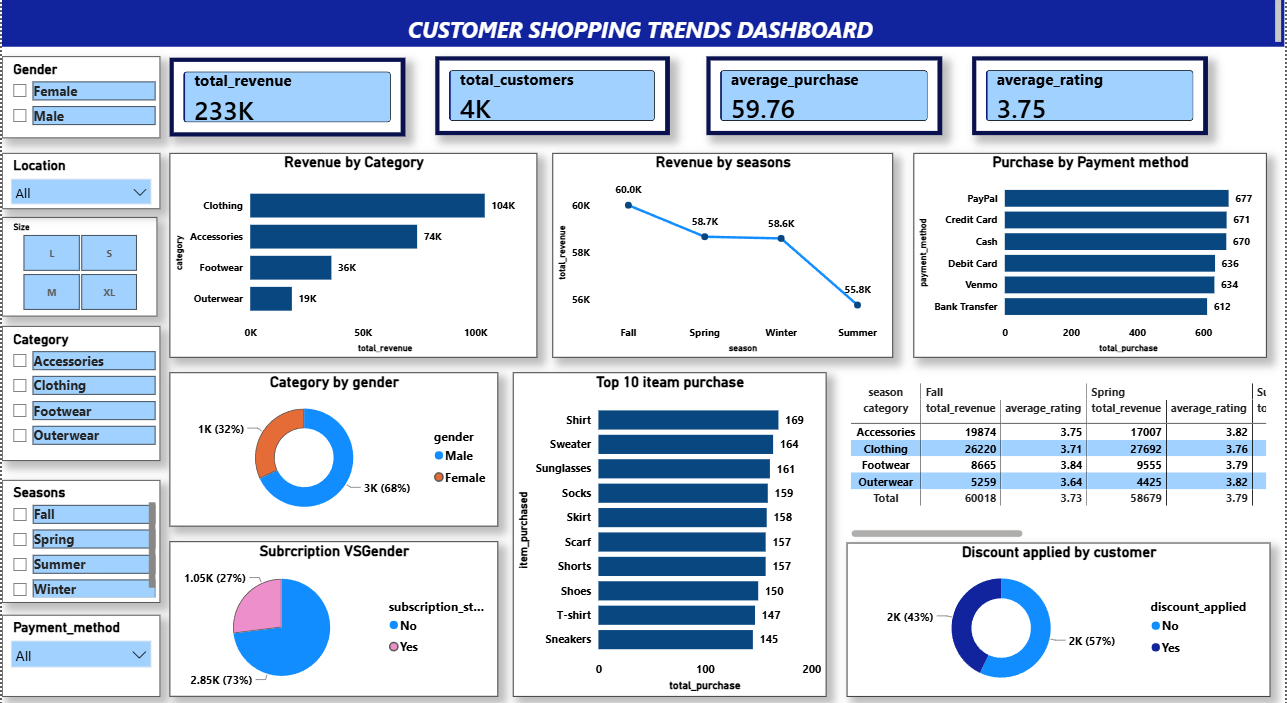

The page's visual inventory and layout, read from the dashboard file:
{"tool":"powerbi","page":{"name":"Page 1","canvas":[1566,867],"ordinal":0},"visuals":[{"type":"textbox","box":[0,0,1565.7,63.2],"z":0},{"type":"slicer","fields":{"Values":["customer_shopping_cleaned.gender"]},"box":[0,74.8,192.8,99.7],"z":1},{"type":"slicer","fields":{"Values":["customer_shopping_cleaned.size"]},"box":[0,270.9,189.5,121.3],"z":2},{"type":"slicer","fields":{"Values":["customer_shopping_cleaned.category"]},"box":[0,403.9,192.8,164.5],"z":3},{"type":"slicer","fields":{"Values":["customer_shopping_cleaned.season"]},"box":[0,591.7,192.8,149.6],"z":4},{"type":"slicer","fields":{"Values":["customer_shopping_cleaned.location"]},"box":[0,192.8,192.8,68.1],"z":5},{"type":"slicer","fields":{"Values":["customer_shopping_cleaned.payment_method"]},"box":[0,756.2,192.8,99.7],"z":6},{"type":"cardVisual","fields":{"Data":["All measures.total_revenue"]},"box":[204.4,76.5,287.5,96.4],"z":7},{"type":"cardVisual","fields":{"Data":["All measures.total_customers"]},"box":[528.5,74.8,285.9,96.4],"z":9},{"type":"cardVisual","fields":{"Data":["All measures.average_purchase"]},"box":[859.3,74.8,287.5,96.4],"z":11},{"type":"cardVisual","fields":{"Data":["All measures.average_rating"]},"box":[1183.4,74.8,287.5,96.4],"z":12},{"type":"barChart","title":"Revenue by Category","fields":{"Category":["customer_shopping_cleaned.category"],"Y":["All measures.total_revenue"]},"box":[204.4,192.8,448.8,249.3],"z":13},{"type":"lineChart","title":"Revenue by seasons","fields":{"Category":["customer_shopping_cleaned.season"],"Y":["All measures.total_revenue"]},"box":[671.5,192.8,415.5,249.3],"z":14},{"type":"donutChart","title":"Category by gender","fields":{"Category":["customer_shopping_cleaned.gender"],"Y":["All measures.total_customers"]},"box":[204.4,460.4,400.6,187.8],"z":15},{"type":"barChart","title":"Purchase by Payment method","fields":{"Category":["customer_shopping_cleaned.payment_method"],"Y":["All measures.total_purchase"]},"box":[1111.9,192.8,430.5,249.3],"z":16},{"type":"pieChart","title":"Subrcription VSGender","fields":{"Category":["customer_shopping_cleaned.subscription_status"],"Y":["CountNonNull(customer_shopping_cleaned.gender)"]},"box":[204.4,666.5,400.6,189.5],"z":17},{"type":"barChart","title":"Top 10 iteam purchase","fields":{"Category":["customer_shopping_cleaned.item_purchased"],"Y":["All measures.total_purchase"]},"box":[623.3,460.4,382.3,395.6],"z":18},{"type":"pivotTable","fields":{"Rows":["customer_shopping_cleaned.category"],"Columns":["customer_shopping_cleaned.season"],"Values":["All measures.total_revenue","All measures.average_rating"]},"box":[1030.5,468.7,516.9,197.8],"z":19},{"type":"donutChart","title":"Discount applied by customer","fields":{"Y":["All measures.total_customers"],"Category":["customer_shopping_cleaned.discount_applied"]},"box":[1030.5,668.1,516.9,187.8],"z":20}]}

Visuals, with their boxes in screenshot pixels (x1, y1, x2, y2), scaled from the page's 1566x867 canvas onto the 1287x703 screenshot:
textbox: <bbox>0, 0, 1286, 51</bbox>
slicer - customer_shopping_cleaned.gender: <bbox>0, 61, 158, 141</bbox>
slicer - customer_shopping_cleaned.size: <bbox>0, 220, 156, 318</bbox>
slicer - customer_shopping_cleaned.category: <bbox>0, 327, 158, 461</bbox>
slicer - customer_shopping_cleaned.season: <bbox>0, 480, 158, 601</bbox>
slicer - customer_shopping_cleaned.location: <bbox>0, 156, 158, 212</bbox>
slicer - customer_shopping_cleaned.payment_method: <bbox>0, 613, 158, 694</bbox>
cardVisual - All measures.total_revenue: <bbox>168, 62, 404, 140</bbox>
cardVisual - All measures.total_customers: <bbox>434, 61, 669, 139</bbox>
cardVisual - All measures.average_purchase: <bbox>706, 61, 942, 139</bbox>
cardVisual - All measures.average_rating: <bbox>973, 61, 1209, 139</bbox>
"Revenue by Category" barChart: <bbox>168, 156, 537, 358</bbox>
"Revenue by seasons" lineChart: <bbox>552, 156, 893, 358</bbox>
"Category by gender" donutChart: <bbox>168, 373, 497, 526</bbox>
"Purchase by Payment method" barChart: <bbox>914, 156, 1268, 358</bbox>
"Subrcription VSGender" pieChart: <bbox>168, 540, 497, 694</bbox>
"Top 10 iteam purchase" barChart: <bbox>512, 373, 826, 694</bbox>
pivotTable - customer_shopping_cleaned.category x customer_shopping_cleaned.season: <bbox>847, 380, 1272, 540</bbox>
"Discount applied by customer" donutChart: <bbox>847, 542, 1272, 694</bbox>
